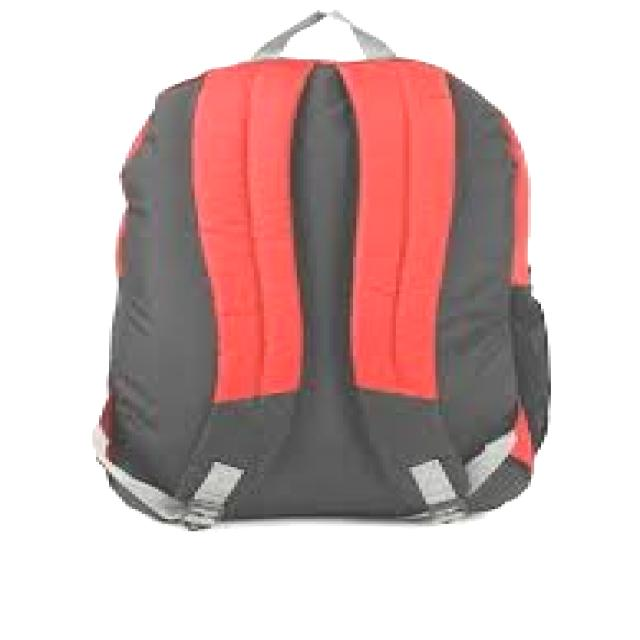backpack: (90, 8, 552, 530)
